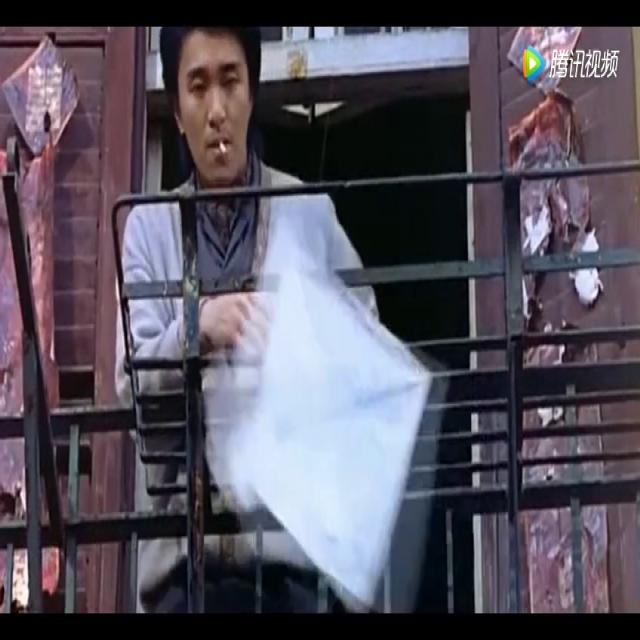smoking: (217, 137, 229, 160)
